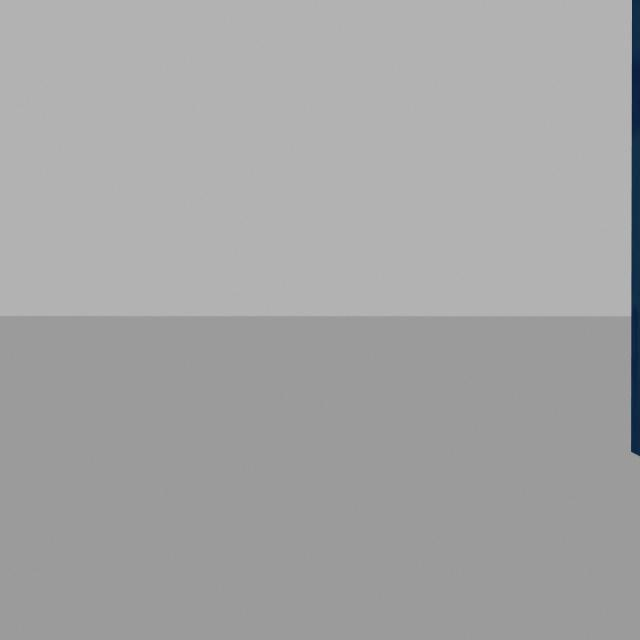shelf: (622, 0, 640, 482)
